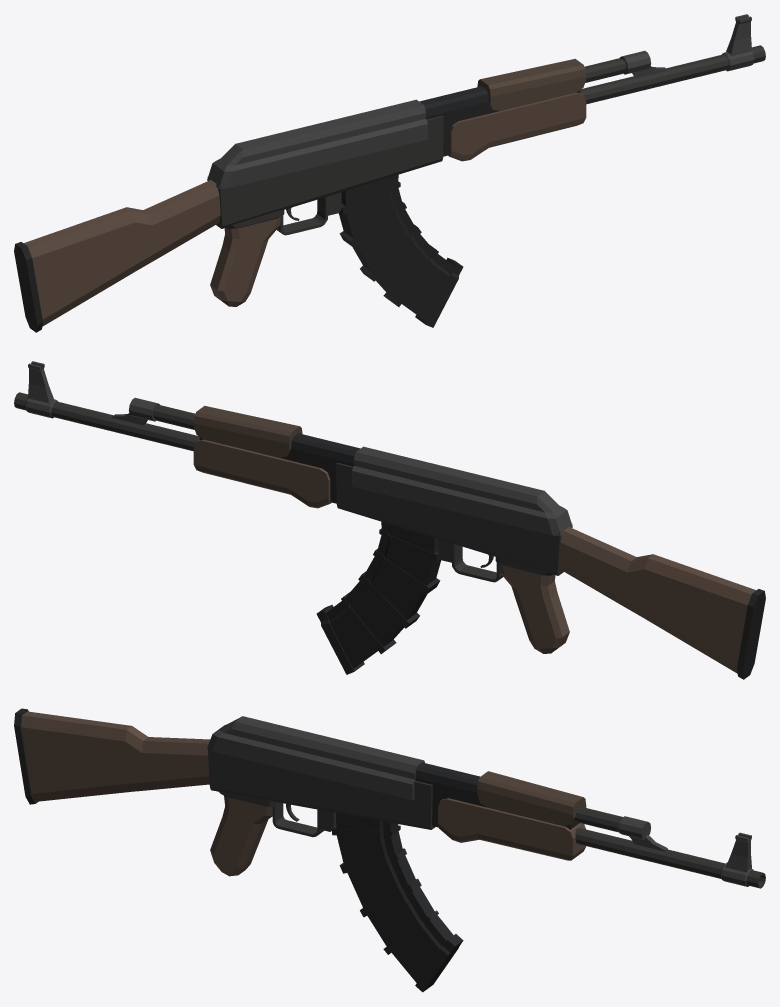
The model's file is Assault Rifle.glb.
3 renders of one model, top to bottom at view 1: azimuth 30°, elevation 25°; view 2: azimuth 150°, elevation 25°; view 3: azimuth 330°, elevation 25°, orthographic.
Parts seen in each view (by area): view 1: Assault Rifle; view 2: Assault Rifle; view 3: Assault Rifle.
Part boxes in pixels (<box>): Assault Rifle: <box>14,14,765,332</box>; Assault Rifle: <box>14,361,765,679</box>; Assault Rifle: <box>14,708,765,992</box>.
Size of the model in its own units: 0.6669 by 0.197 by 0.0241.
